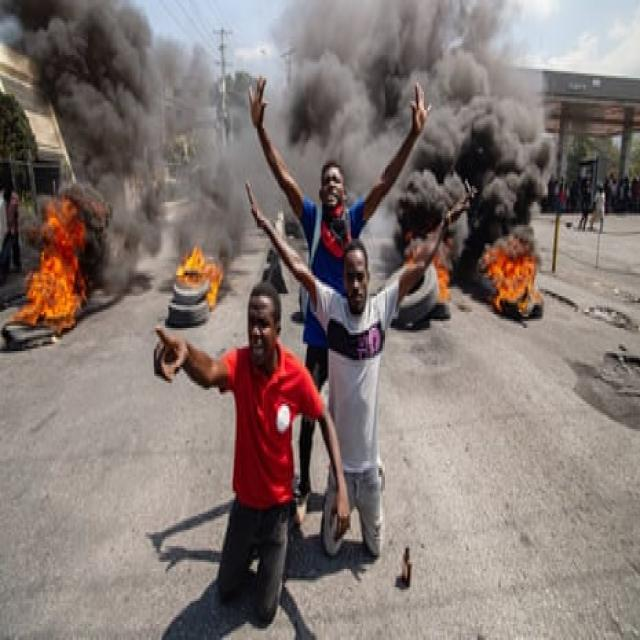fire: (16, 255, 78, 326), (487, 252, 537, 310), (47, 208, 83, 252)
